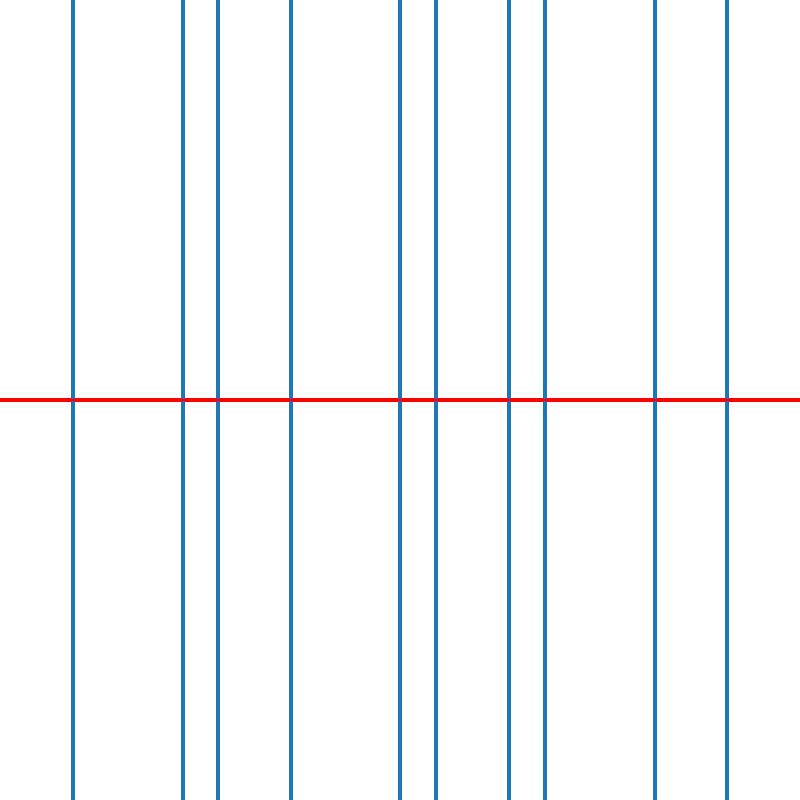root: (432, 396, 440, 404), (541, 396, 549, 404), (650, 396, 658, 404), (287, 396, 294, 404), (723, 396, 730, 404), (214, 396, 221, 404), (396, 396, 403, 404), (178, 396, 185, 404), (505, 396, 512, 404), (69, 396, 76, 404)
